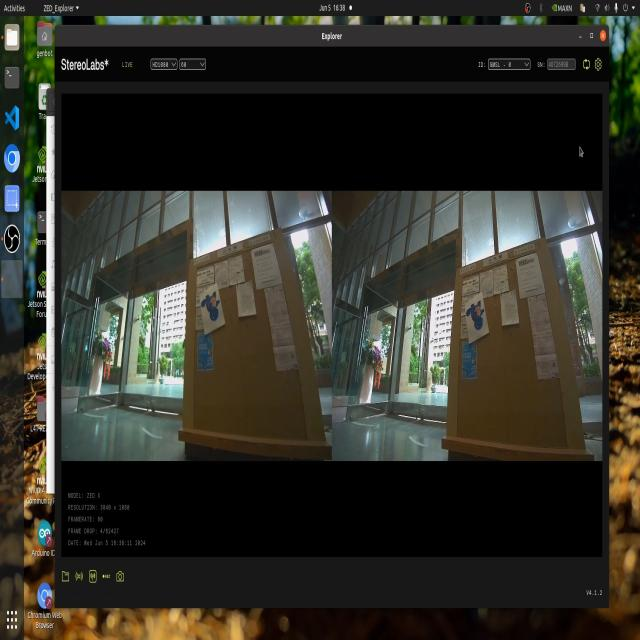blue: (465, 296, 488, 337), (204, 282, 224, 328)
